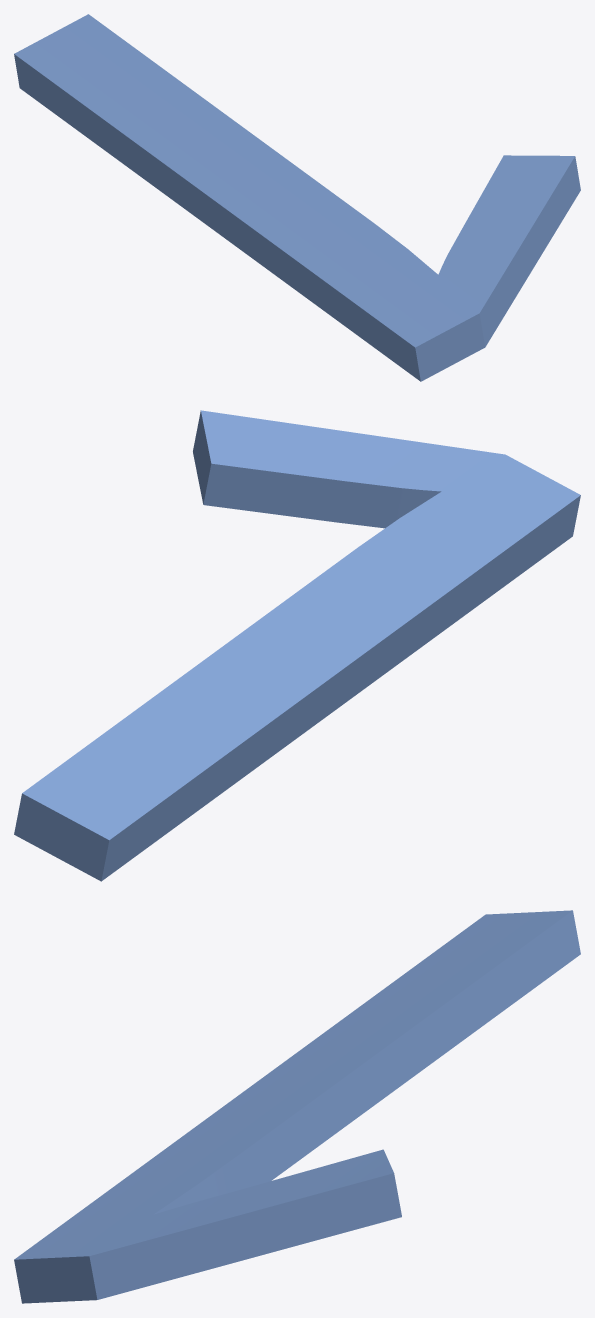
File: New_Number_1.gltf
3 renders of one model, top to bottom at view 1: azimuth 30°, elevation 25°; view 2: azimuth 150°, elevation 25°; view 3: azimuth 330°, elevation 25°, orthographic. The views are drawn at different scales.
Visible parts, largest first — view 1: Part 280; view 2: Part 280; view 3: Part 280.
Boxes of the visible parts, x1,y1,x2,y2 form: Part 280: (14,14,580,381); Part 280: (14,410,580,881); Part 280: (14,910,580,1303).
Bounding box in the file's own units: 0.0018 × 0.000756 × 0.00505.
